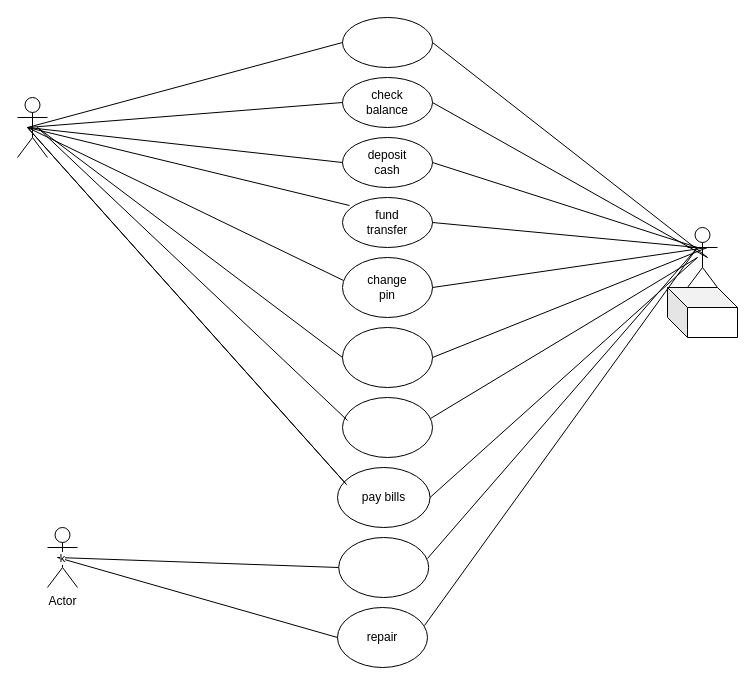
This 755x685 diagram has some shape labels left out. Each missing label, with the box of its shape:
maintenance: (338, 536, 429, 598)
mini statement: (342, 326, 432, 388)
request cheque book: (342, 396, 432, 458)
with draw cash: (342, 16, 432, 68)
